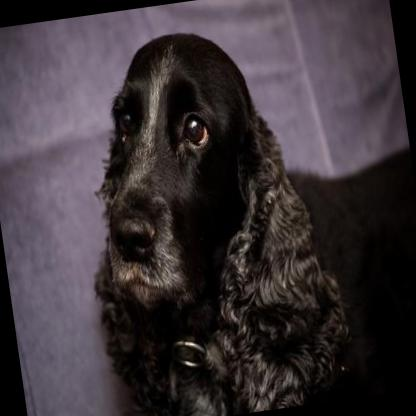cocker_spaniel: (57, 0, 416, 416)
